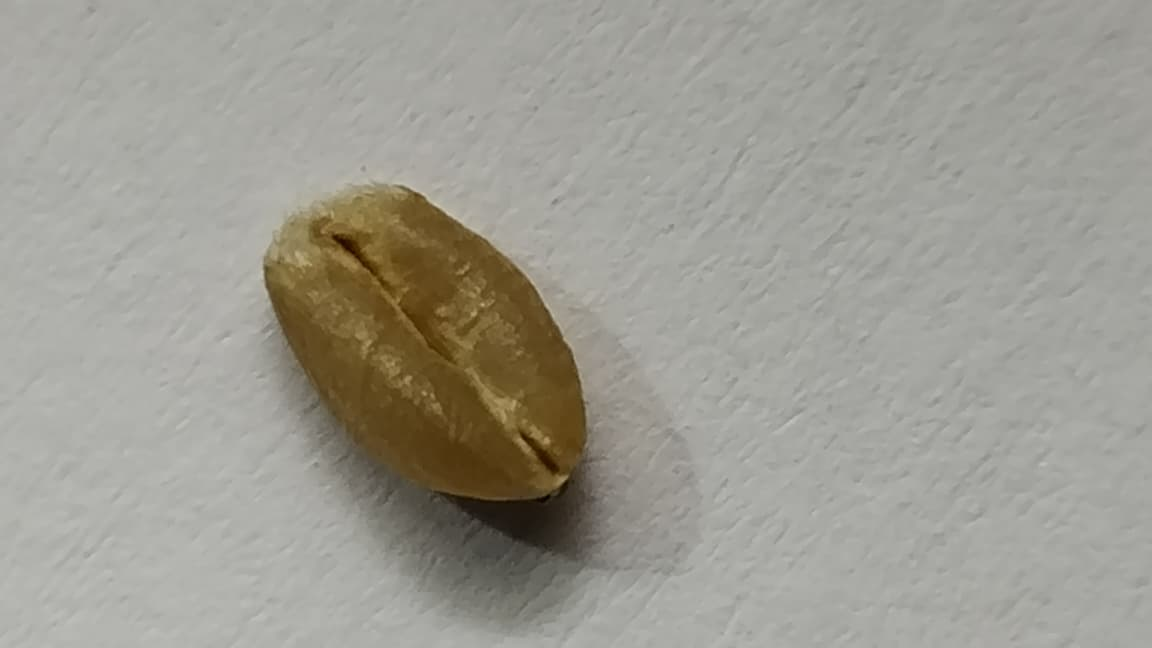healthy: (264, 184, 585, 500)
